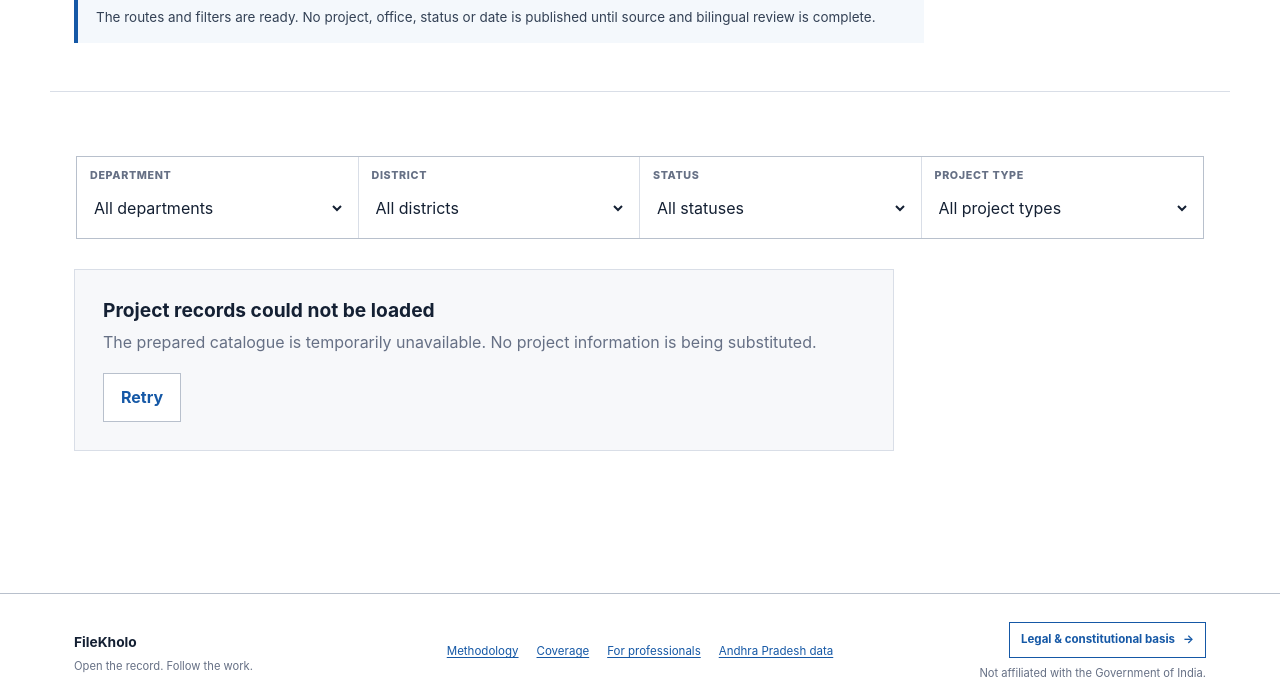
it: ProjectsDirectory › shows filtered-empty and retryable error states
The width and height of the screenshot is (1280, 700).
(page scrolled)
Expected: the message shows "No project information is being substituted", [103,332,816,352]
Click the button "Retry": (142, 397) [103,373,181,422]
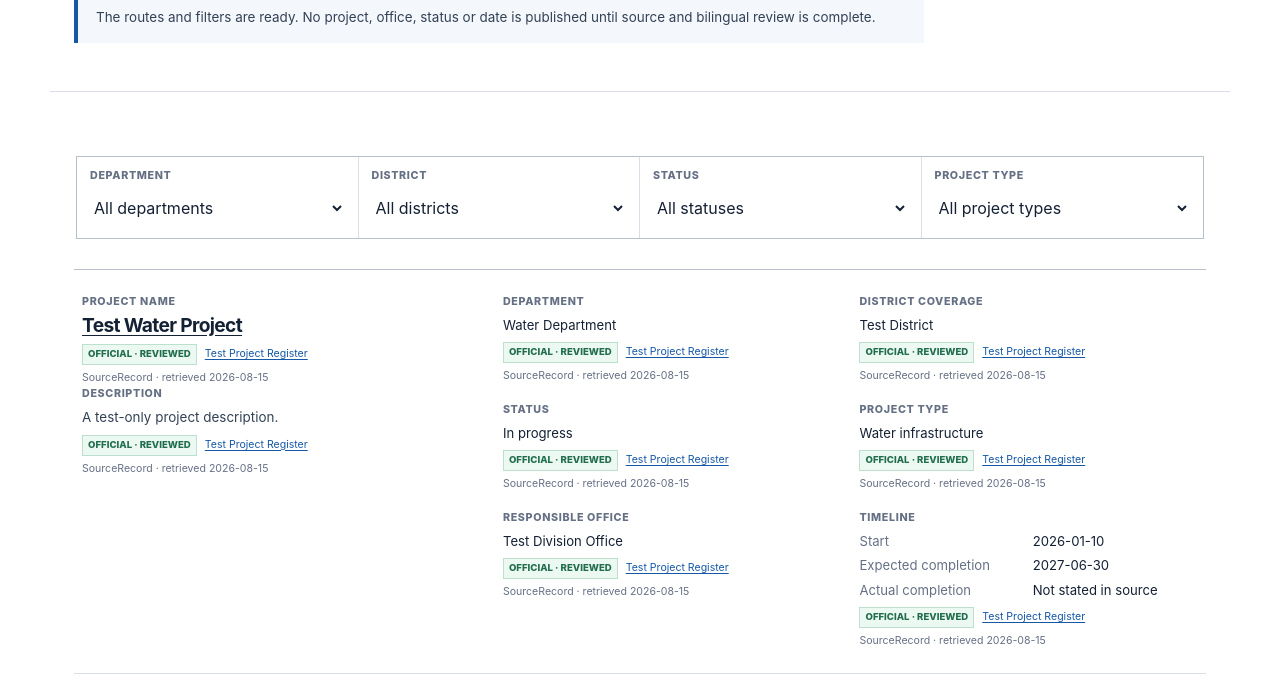
Expected: the heading "Test Water Project" is shown, [82,312,242,336]
Select "Water Department" in the dropdown labelled "Department": (217, 208) [90,189,344,227]
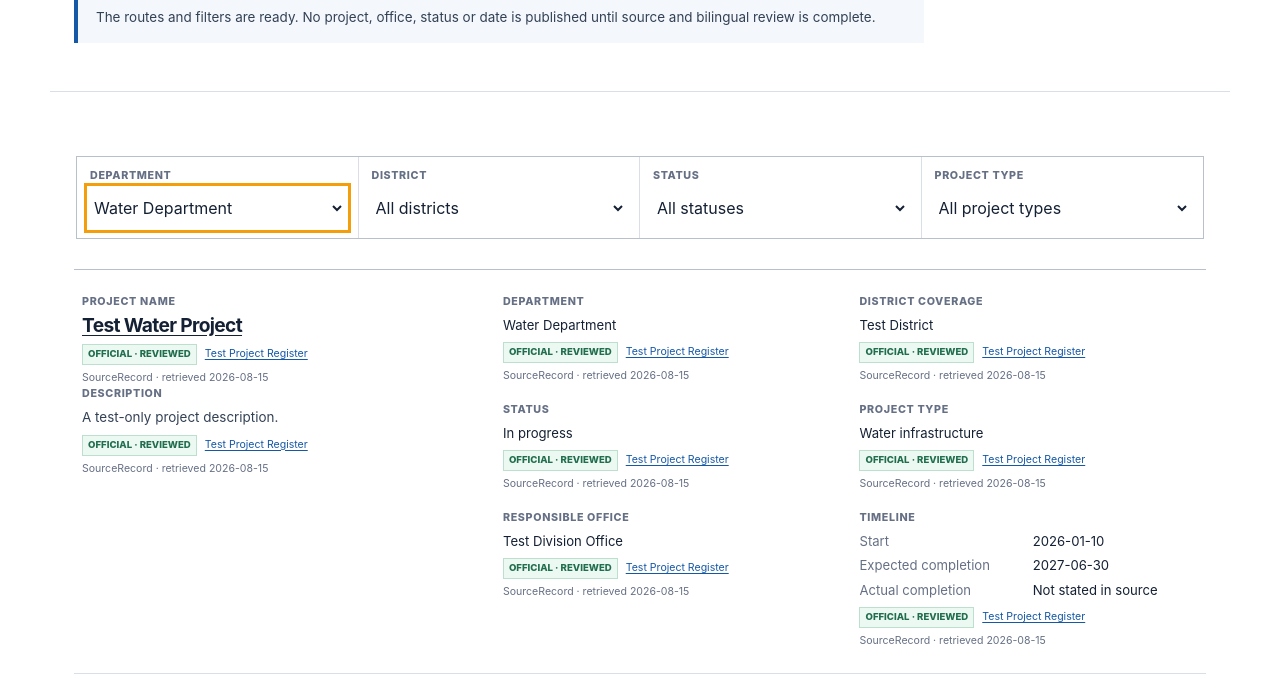
Select "Completed" in the dropdown labelled "Status": (780, 208) [653,189,908,227]
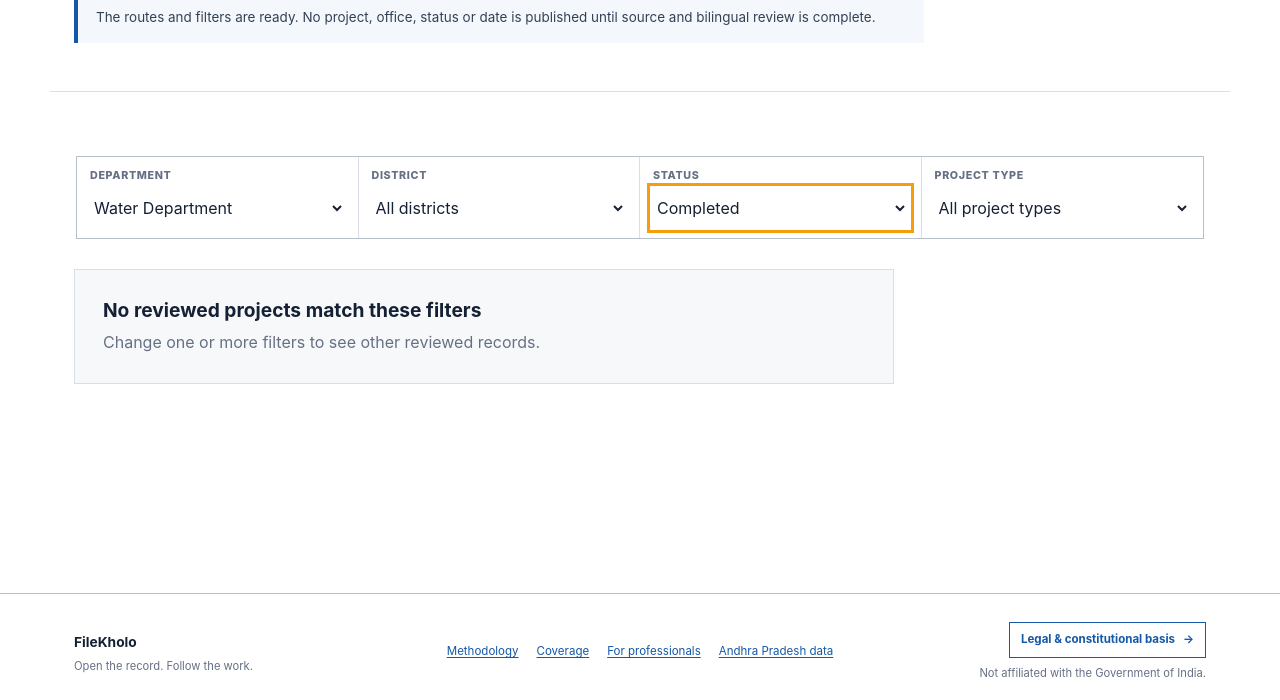
Expected: the heading "No reviewed projects match these filters" is shown, [103,298,481,322]
